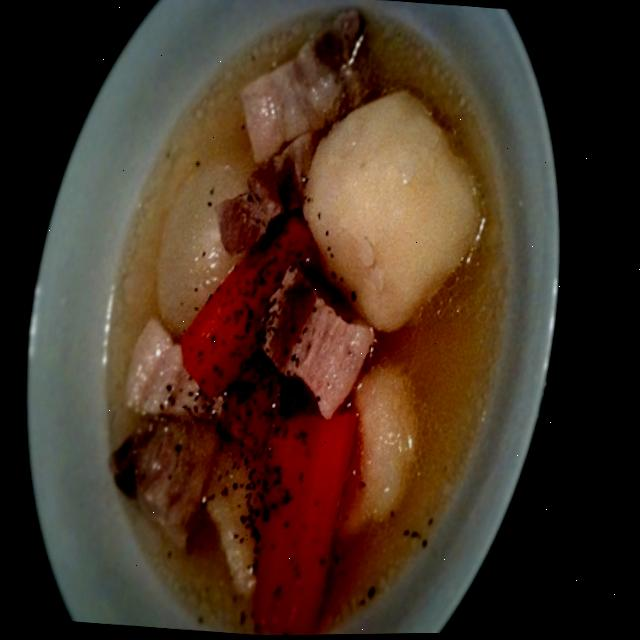汤锅炖物: (17, 0, 586, 639)
